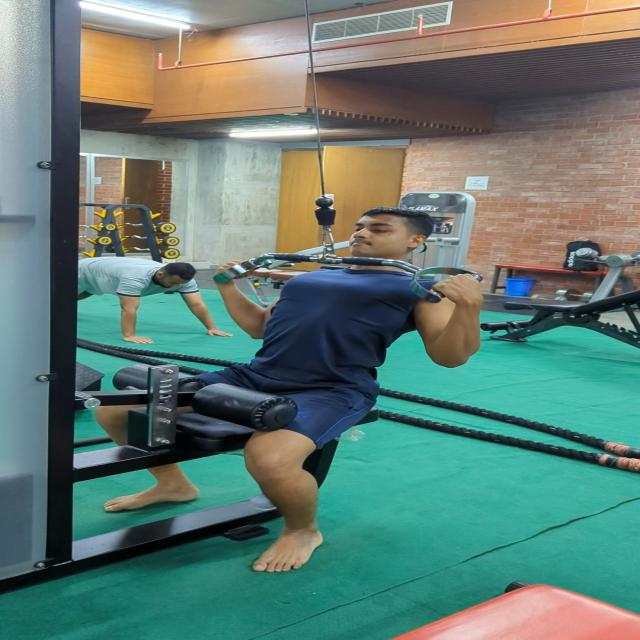Normal_LatPulldown: (118, 198, 495, 580)
